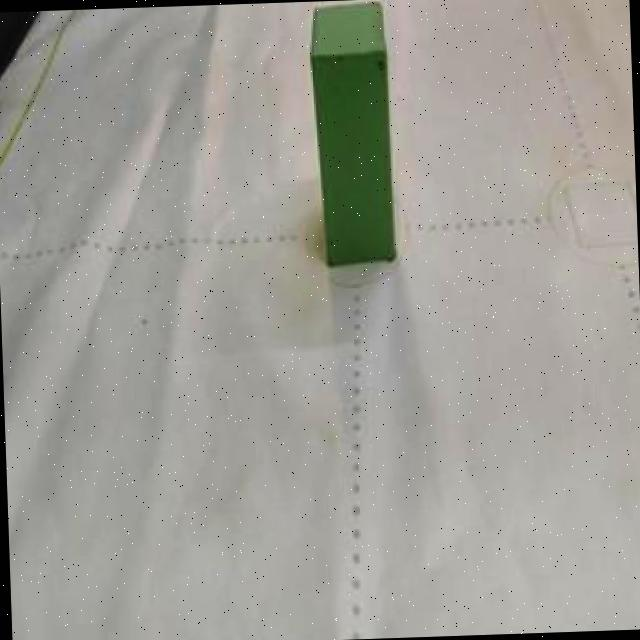greenbox: (303, 0, 400, 268)
